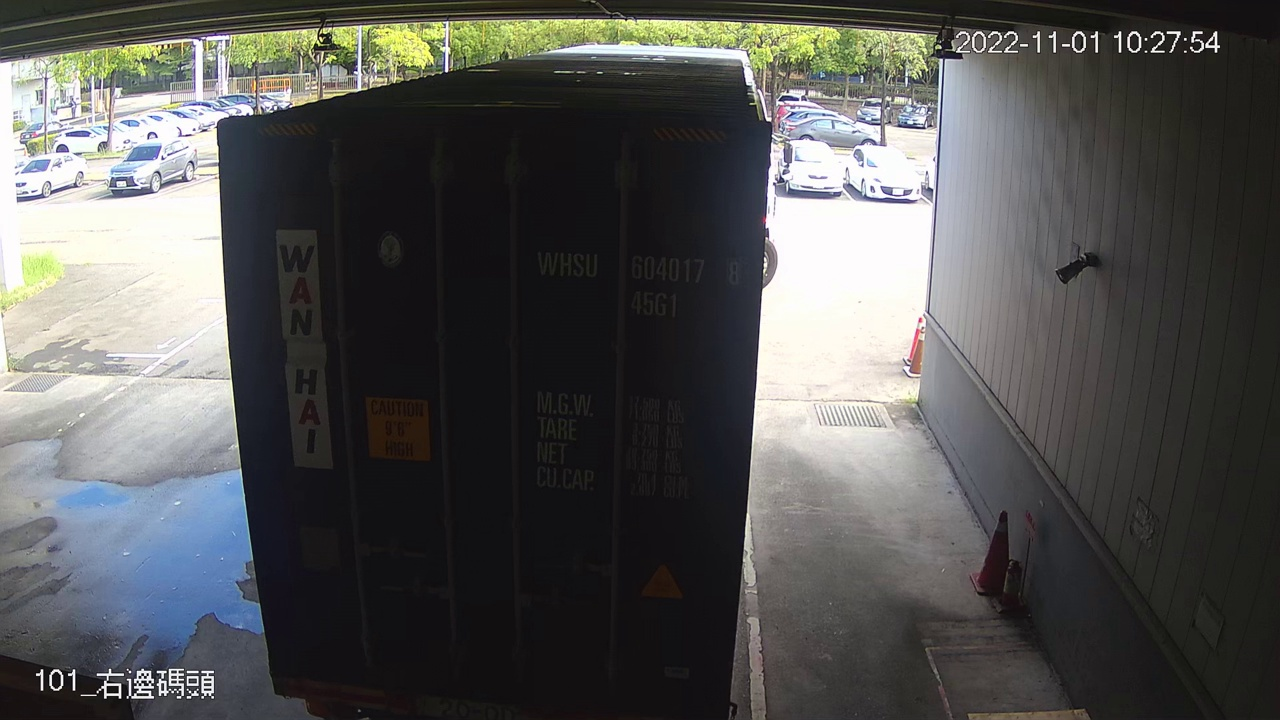container: (526, 235, 753, 327)
